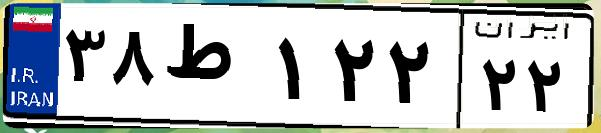1: (270, 28, 330, 110)
2: (385, 28, 445, 110), (330, 28, 385, 110), (475, 38, 525, 113), (525, 38, 570, 115)
3: (57, 26, 110, 100)
8: (110, 28, 158, 98)
ط: (158, 20, 270, 120)
